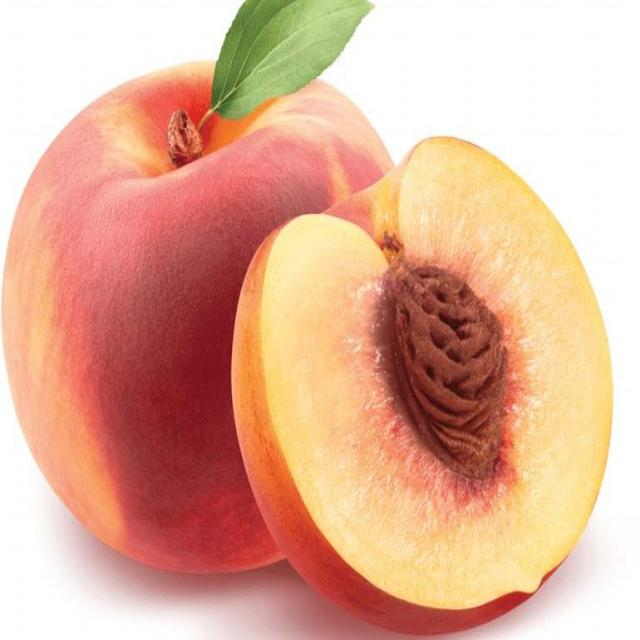peach: (234, 136, 612, 632), (1, 59, 233, 590)
